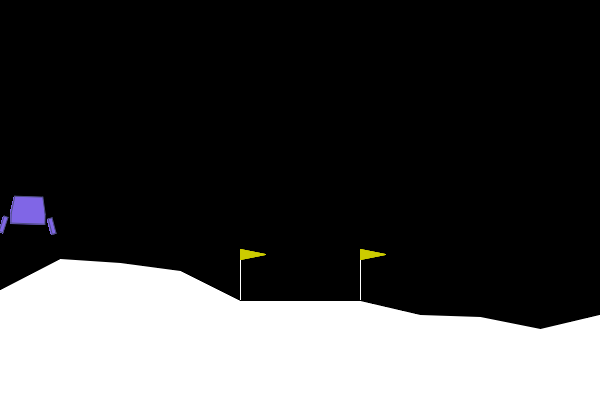lander: (0, 194, 58, 236)
